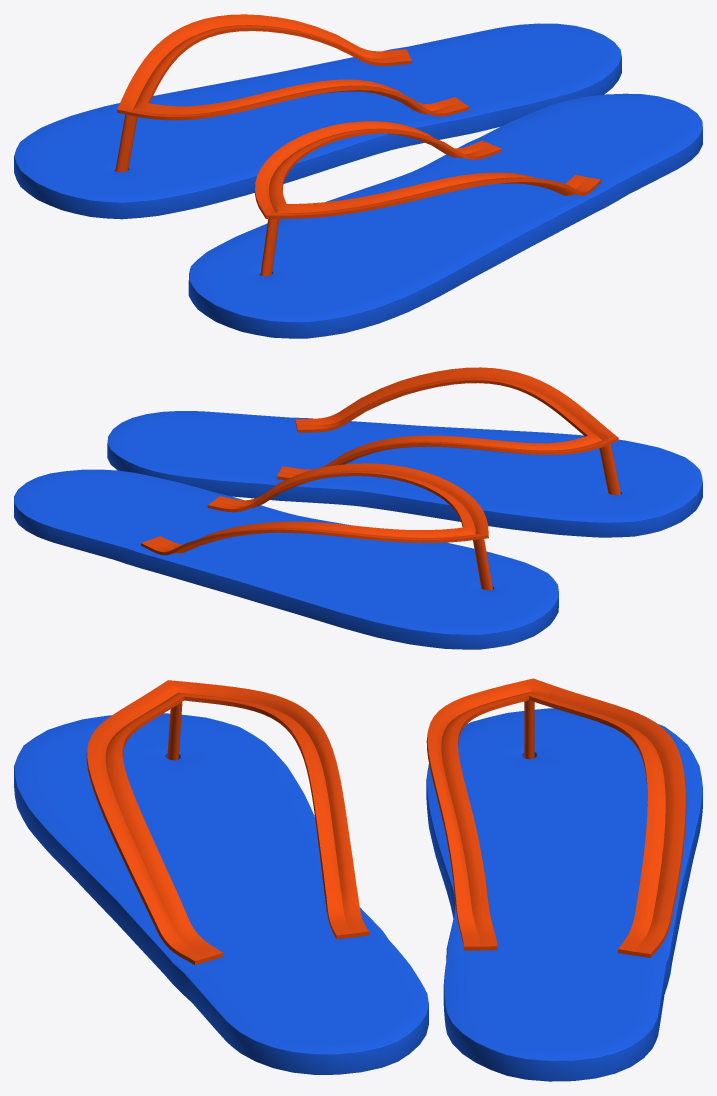
The model's file is sliper.FBX.
The picture shows the model from 3 angles, top to bottom: view 1: azimuth 30°, elevation 25°; view 2: azimuth 150°, elevation 25°; view 3: azimuth 270°, elevation 25°; orthographic projection. The views are drawn at different scales.
Parts seen in each view (by area): view 1: suela left, SUela Right, Cinta right, Cinta left; view 2: SUela Right, suela left, Cinta left, Cinta right; view 3: suela left, SUela Right, Cinta right, Cinta left.
Boxes of the visible parts, box(x1,y1,x2,y2) form: suela left: box(188, 93, 702, 338); SUela Right: box(14, 23, 621, 219); Cinta right: box(115, 14, 469, 172); Cinta left: box(254, 121, 600, 276); SUela Right: box(14, 469, 558, 649); suela left: box(107, 411, 702, 537); Cinta left: box(276, 367, 620, 494); Cinta right: box(141, 463, 492, 590); suela left: box(14, 713, 428, 1074); SUela Right: box(426, 708, 702, 1081); Cinta right: box(426, 678, 686, 957); Cinta left: box(86, 680, 368, 965).
Bounding box in the file's own units: 29.66 × 4.45 × 24.5.
